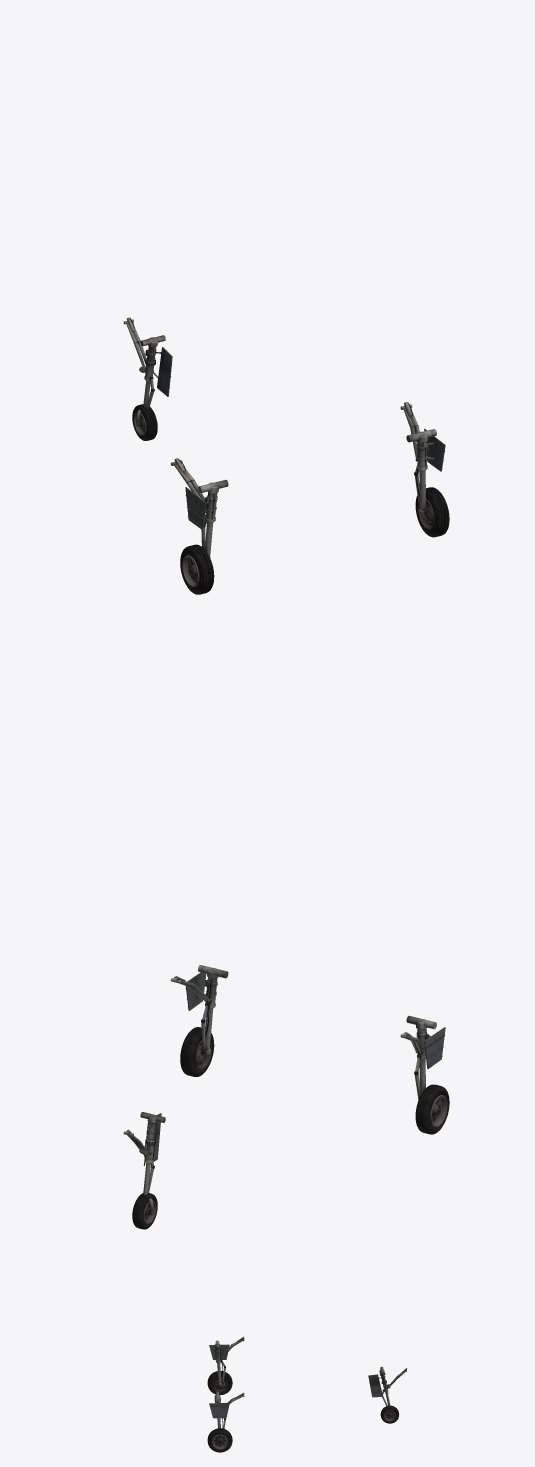
The model's file is e_f35_gear.glb.
The picture shows the model from 3 angles, top to bottom: view 1: azimuth 30°, elevation 25°; view 2: azimuth 150°, elevation 25°; view 3: azimuth 270°, elevation 25°; orthographic projection. The views are drawn at different scales.
Parts seen in each view (by area): view 1: body|F35_paint; view 2: body|F35_paint; view 3: body|F35_paint.
Part boxes in pixels (x1,y1,x2,y2): body|F35_paint: (123,317,449,594); body|F35_paint: (123,965,449,1229); body|F35_paint: (207,1337,406,1452).
Bounding box in the file's own units: 4.45 × 5.61 × 15.67.
1 material, 1 textured.
